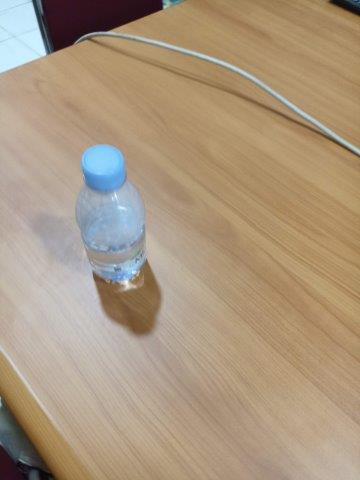botolplastik: (75, 144, 146, 284)
